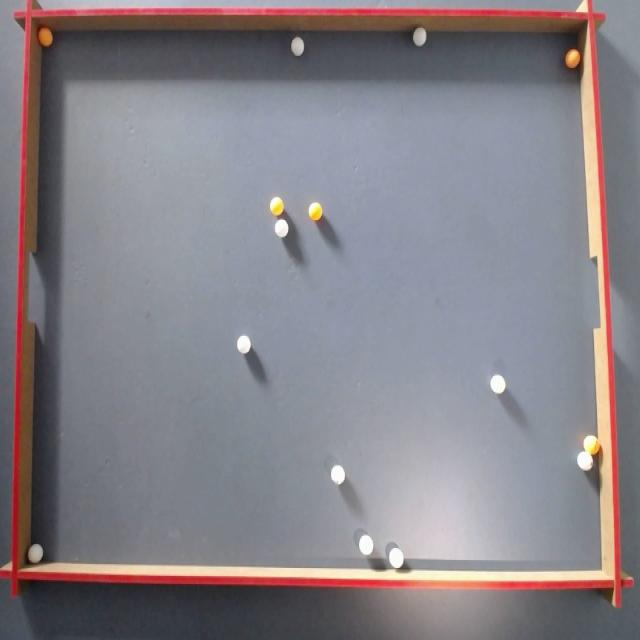orange_ball: (584, 435, 599, 455), (565, 49, 580, 68), (38, 27, 52, 46), (309, 202, 322, 220), (270, 197, 283, 215)
white_ball: (28, 543, 44, 564), (388, 547, 404, 568), (490, 374, 506, 394), (577, 451, 593, 471), (359, 534, 373, 556), (237, 335, 251, 354), (274, 220, 288, 238), (413, 27, 426, 46), (291, 37, 304, 56), (331, 465, 344, 484)
